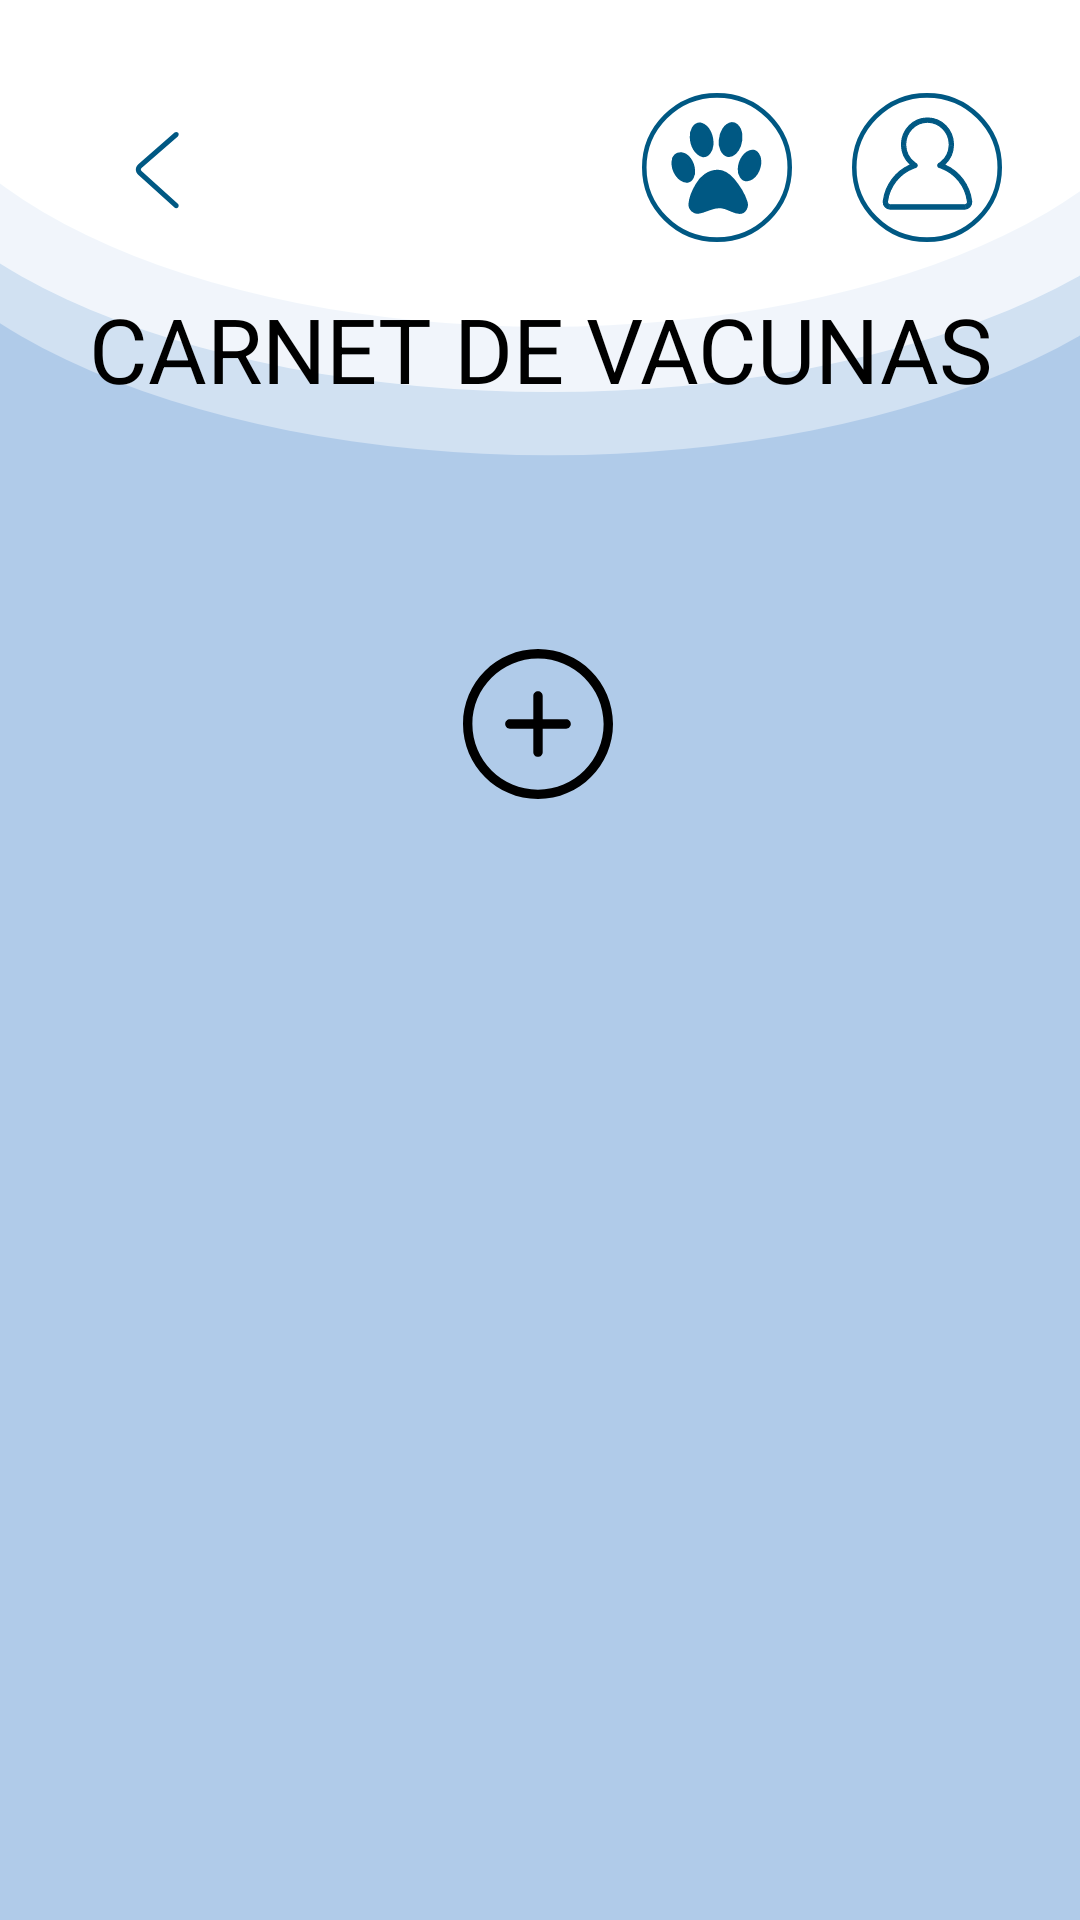

Locate icon controls on the screen. Image size 1080 x 1920, boxes as box(x1, y1, x2, y2).
back arrow: box(135, 132, 179, 209)
huella: box(642, 93, 792, 242)
plus: box(463, 649, 613, 799)
